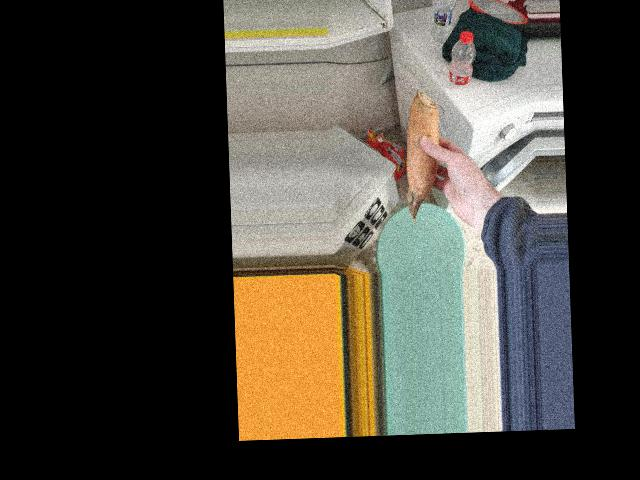sweet_potato: (405, 103, 446, 211)
